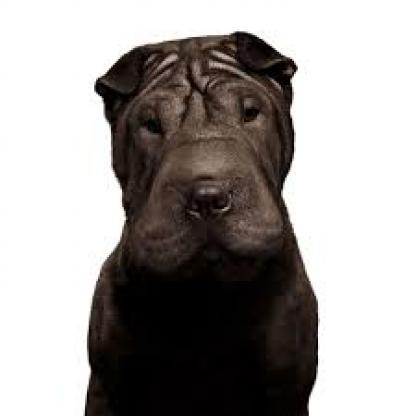Shar pei: (86, 34, 328, 416)
